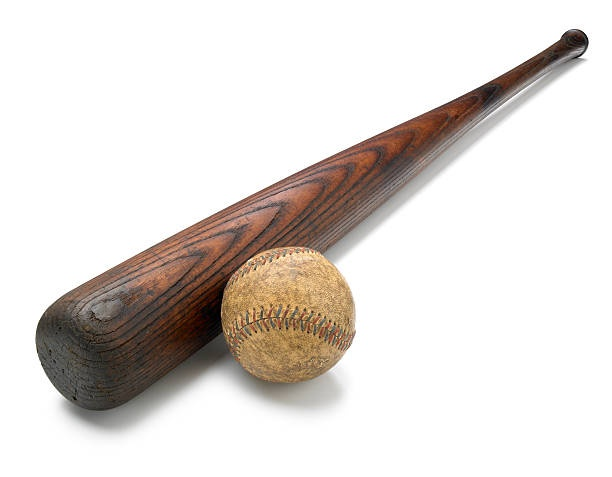bita: (40, 34, 585, 413)
